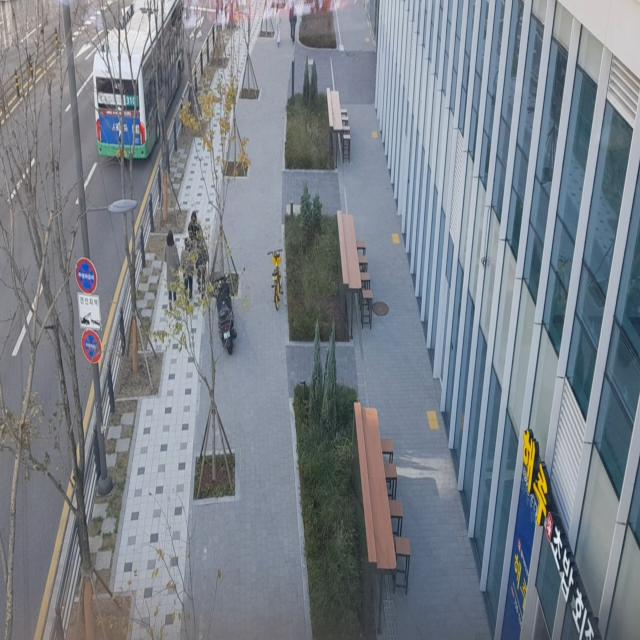Bus: (82, 0, 208, 180)
